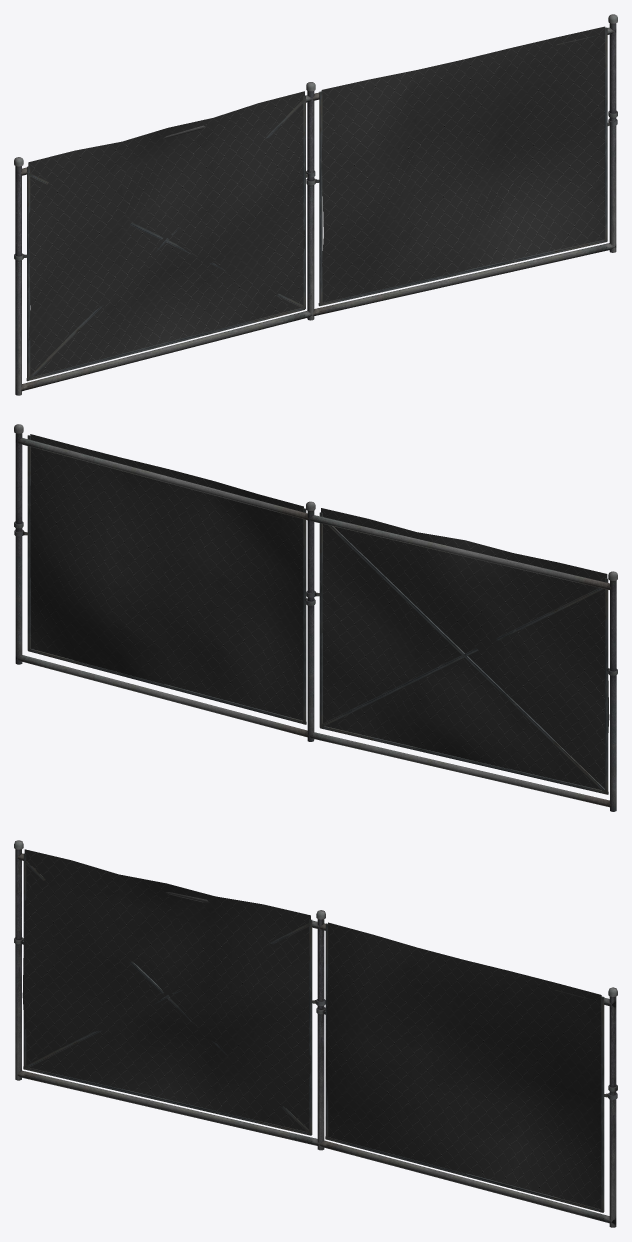
File: chainlink_group-3.FBX
3 views of the same model, one above another, from view 1: azimuth 30°, elevation 25°; view 2: azimuth 150°, elevation 25°; view 3: azimuth 330°, elevation 25° (orthographic).
Visible parts, largest first — view 1: chainlink_group-3_LOD0; view 2: chainlink_group-3_LOD0; view 3: chainlink_group-3_LOD0.
Part boxes in pixels (x1,y1,x2,y2): chainlink_group-3_LOD0: (14,14,617,395); chainlink_group-3_LOD0: (14,424,617,811); chainlink_group-3_LOD0: (14,840,617,1227).
Size of what is drawn, in the model's own units: 220 by 82.86 by 8.06.
